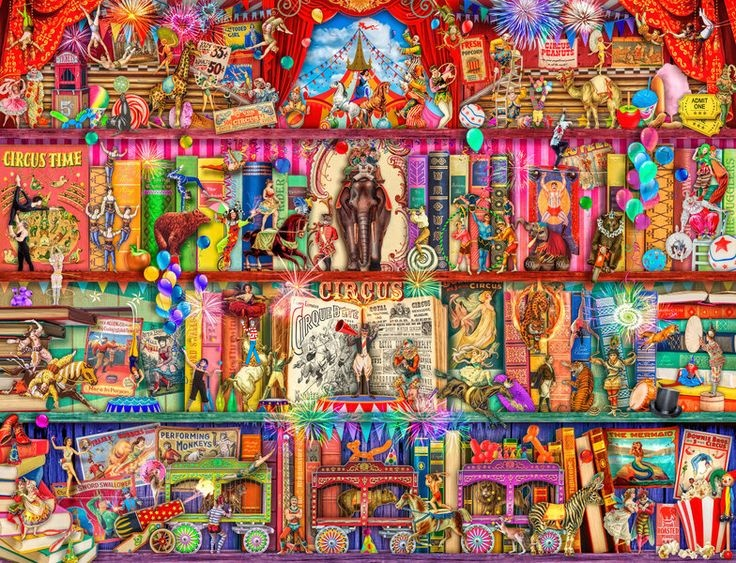waldo: (240, 317, 262, 367)
